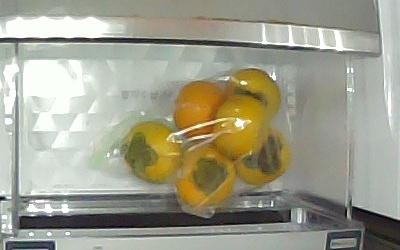persimmon: (226, 67, 282, 122)
persimmon_vinyl: (176, 145, 236, 208), (212, 94, 268, 161), (123, 122, 183, 184), (173, 81, 226, 144), (236, 130, 292, 186)
